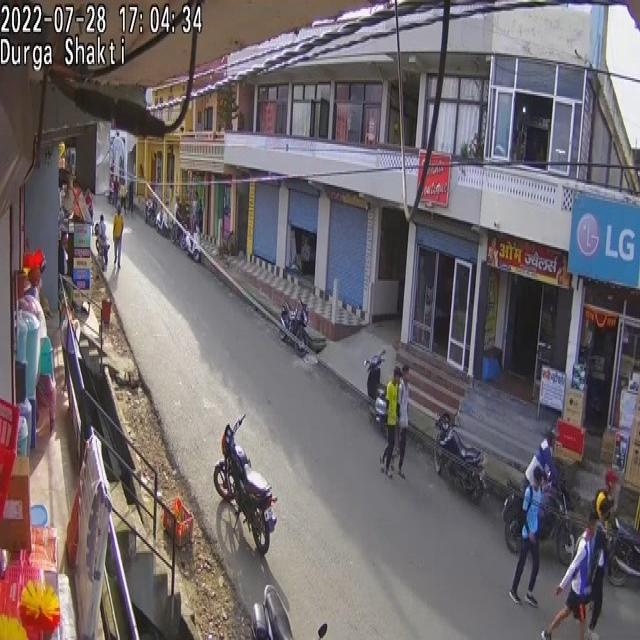non-fight: (540, 504, 608, 640), (510, 465, 549, 607), (380, 367, 400, 478), (393, 362, 409, 475), (112, 207, 124, 271), (95, 215, 108, 262), (190, 194, 200, 234), (128, 180, 134, 213)
